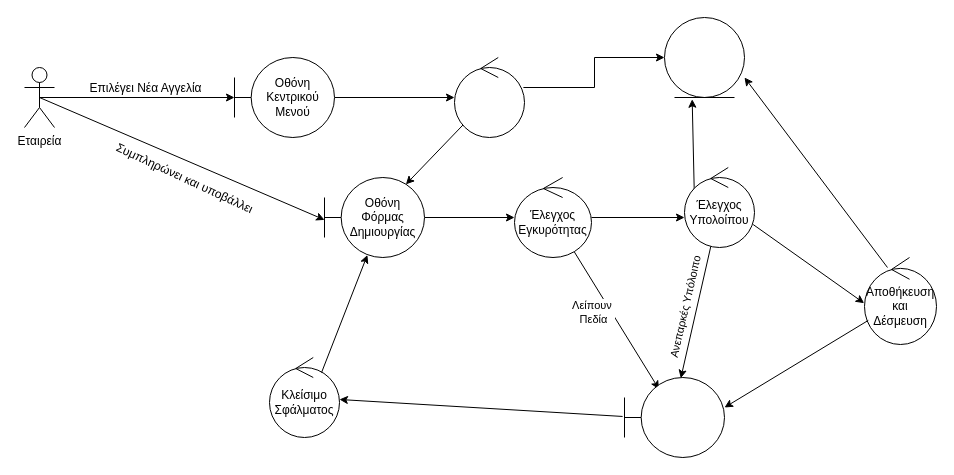
Image size: 954x475. Some labels were removed from this diagram. Here are the shapes that lost their labels. From the top down, the centre of each, then its label:
At pixel 704 57: "Βάση Δεδομένων".
At pixel 489 97: "Άνοιγμα Φόρμας".
At pixel 674 417: "Οθόνη Μηνύματος".
